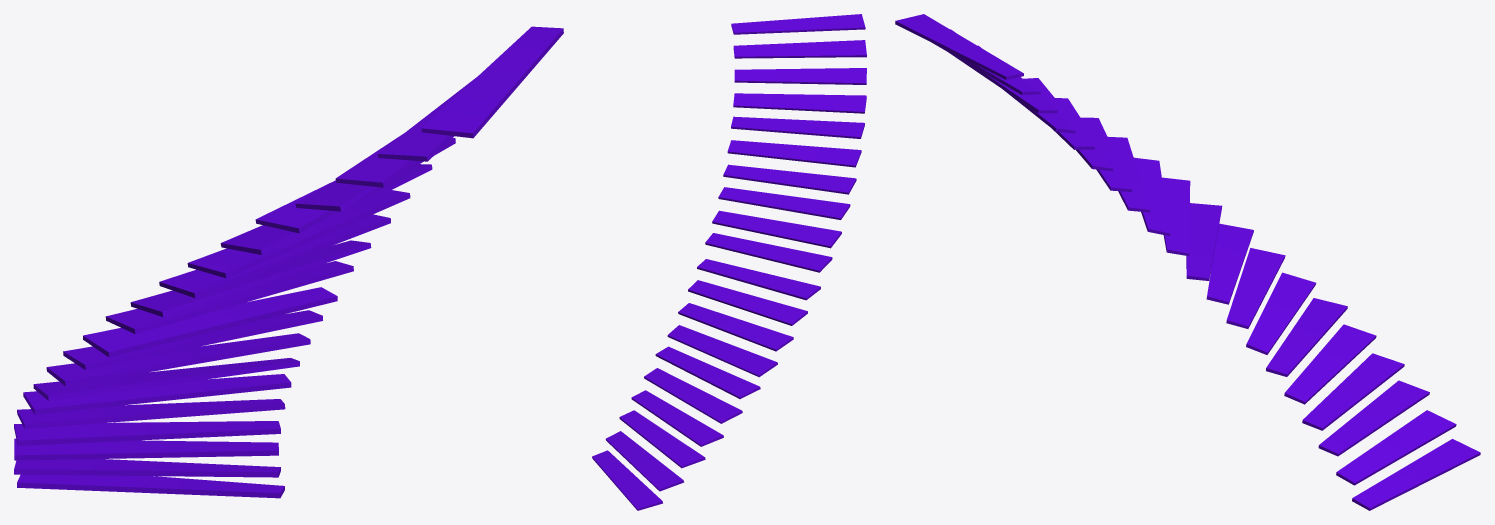
Rendered from Stone_Stairs_Big_01_B.fbx.
The picture shows the model from 3 angles, left to right: view 1: azimuth 30°, elevation 25°; view 2: azimuth 150°, elevation 25°; view 3: azimuth 270°, elevation 25°; orthographic projection. The views are drawn at different scales.
Visible parts, largest first — view 1: Stone_Stairs_Big_01_B; view 2: Stone_Stairs_Big_01_B; view 3: Stone_Stairs_Big_01_B.
Part boxes in pixels (x1,y1,x2,y2): Stone_Stairs_Big_01_B: (14,26,563,498); Stone_Stairs_Big_01_B: (592,14,866,510); Stone_Stairs_Big_01_B: (895,14,1480,510).
Size of the model in its own units: 274 by 550 by 673.
